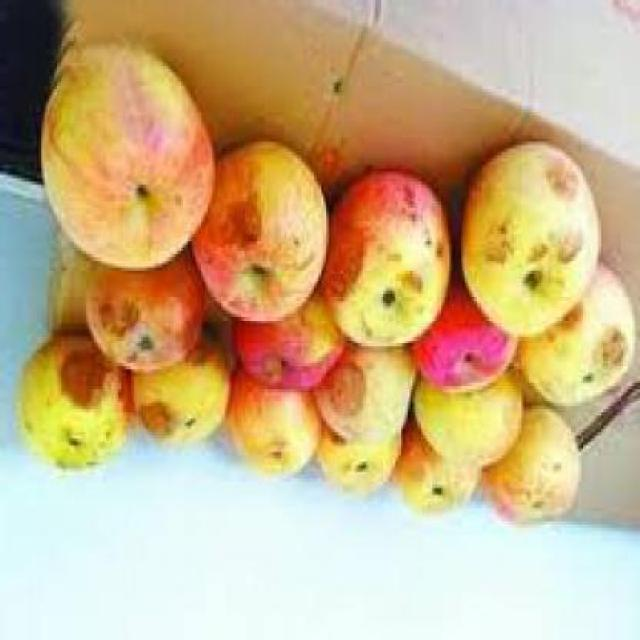BIODEGRADABLE: (42, 46, 218, 274), (459, 142, 601, 336), (192, 142, 334, 330), (326, 175, 452, 353), (517, 264, 637, 408), (22, 333, 136, 472), (87, 247, 205, 376), (417, 273, 521, 396), (235, 291, 352, 395), (482, 406, 583, 525), (412, 370, 526, 475), (134, 330, 232, 448), (230, 372, 325, 482), (318, 347, 420, 448), (398, 426, 482, 514), (320, 433, 402, 495)
CARDBOARD: (212, 3, 638, 146), (314, 119, 472, 175), (583, 392, 639, 532), (69, 3, 217, 49), (600, 142, 638, 272), (54, 244, 88, 333), (588, 148, 603, 182), (572, 142, 593, 162)
